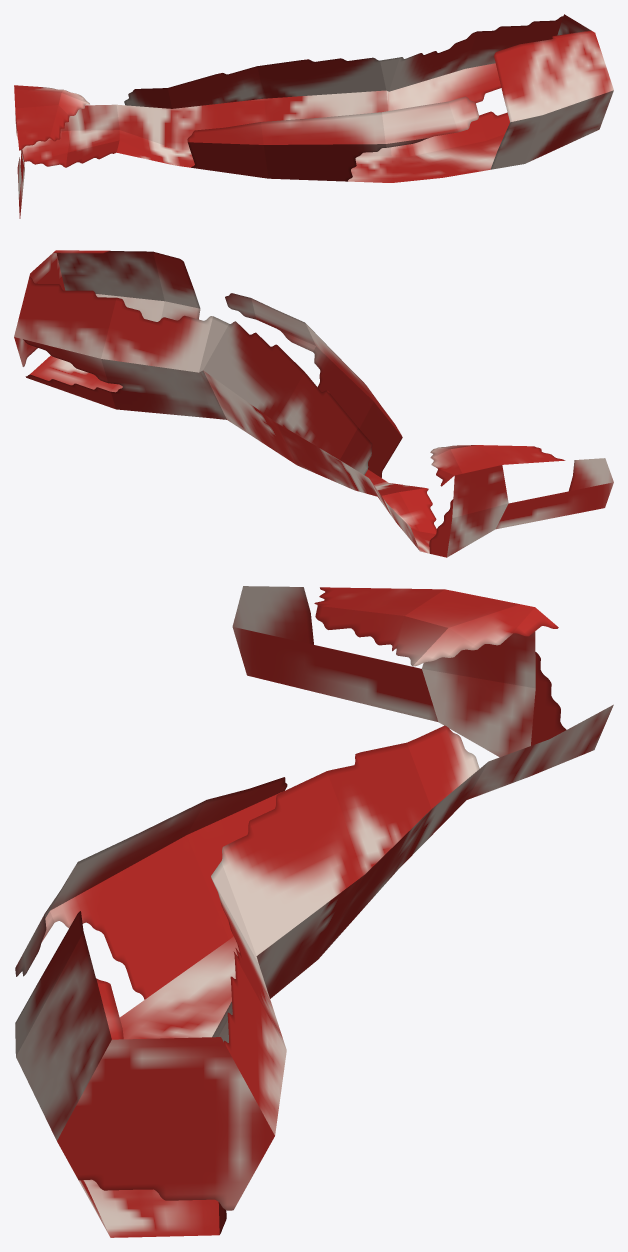
Rendered from PernaDecepada.fbx.
3 renders of one model, top to bottom at view 1: azimuth 30°, elevation 25°; view 2: azimuth 150°, elevation 25°; view 3: azimuth 270°, elevation 25°, orthographic. The views are drawn at different scales.
Visible parts, largest first — view 1: Cube.005; view 2: Cube.005; view 3: Cube.005.
Boxes of the visible parts, x1,y1,x2,y2 form: Cube.005: (14, 14, 613, 218); Cube.005: (14, 250, 613, 557); Cube.005: (15, 586, 613, 1237).
Size of the model in its own units: 2912 by 615 by 1380.
